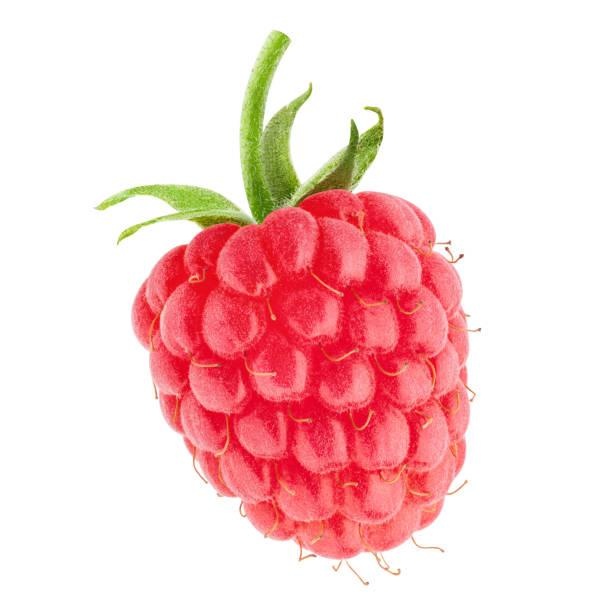pineapple: (93, 29, 481, 584)
